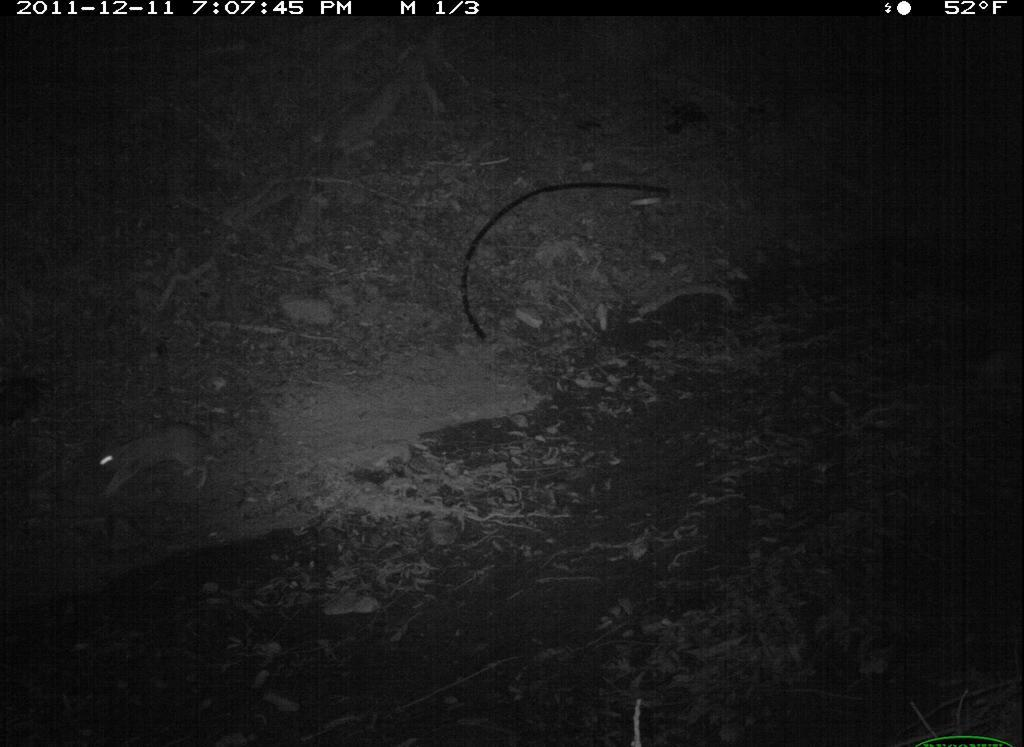rabbit: (85, 419, 231, 505)
